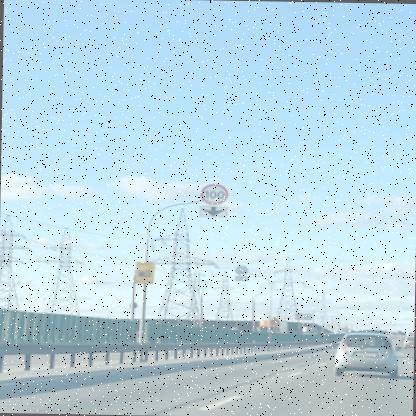speedlimit: (198, 182, 226, 204)
